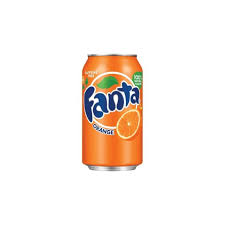can: (77, 47, 146, 176)
